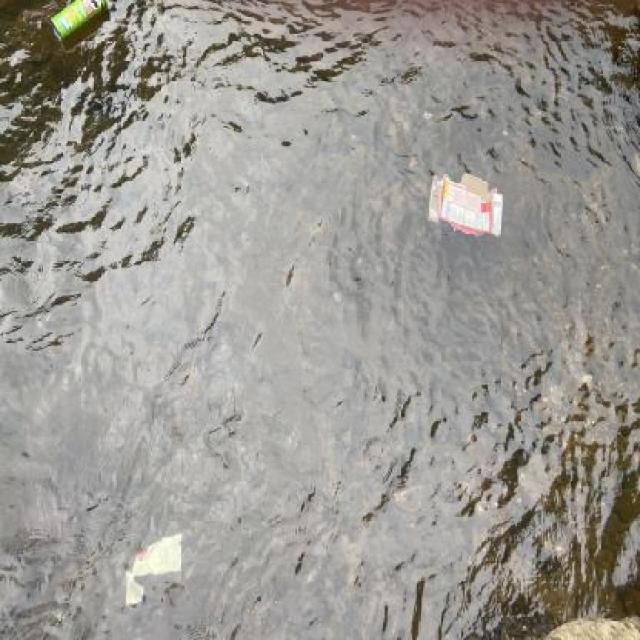Can-Metal: (45, 0, 109, 52)
Cardboard: (422, 160, 511, 246)
Plastic: (116, 528, 190, 620)
